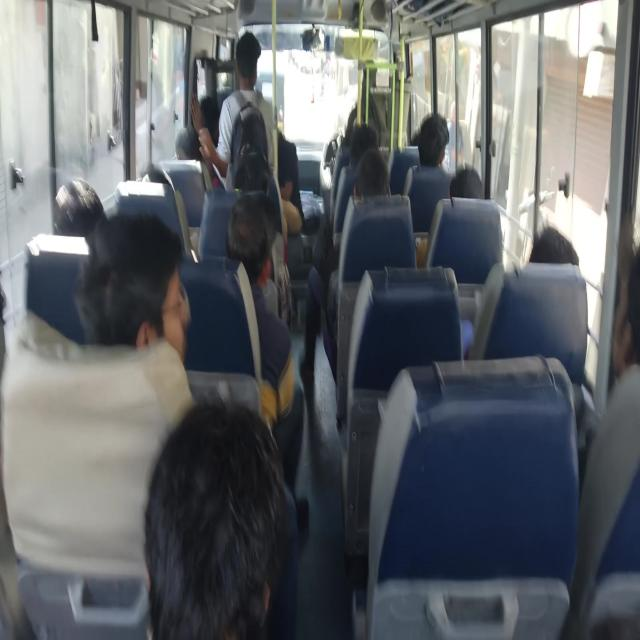person: (128, 423, 294, 629), (88, 210, 174, 330), (264, 76, 306, 244), (602, 246, 640, 418), (34, 171, 106, 259), (526, 227, 612, 284), (336, 165, 412, 227), (227, 20, 279, 104), (450, 163, 500, 224), (226, 204, 266, 272), (175, 115, 212, 173), (241, 146, 277, 198), (234, 135, 274, 180), (132, 163, 167, 213), (424, 112, 450, 173), (349, 130, 371, 155), (414, 128, 426, 146)
